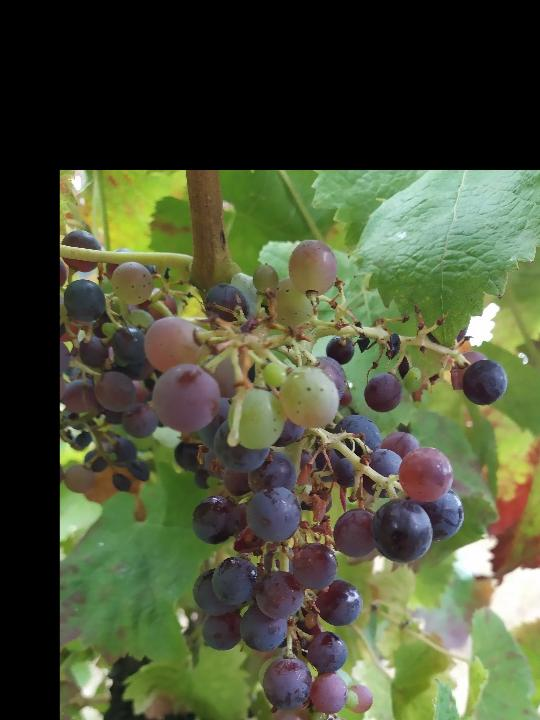grape: (60, 226, 511, 720)
